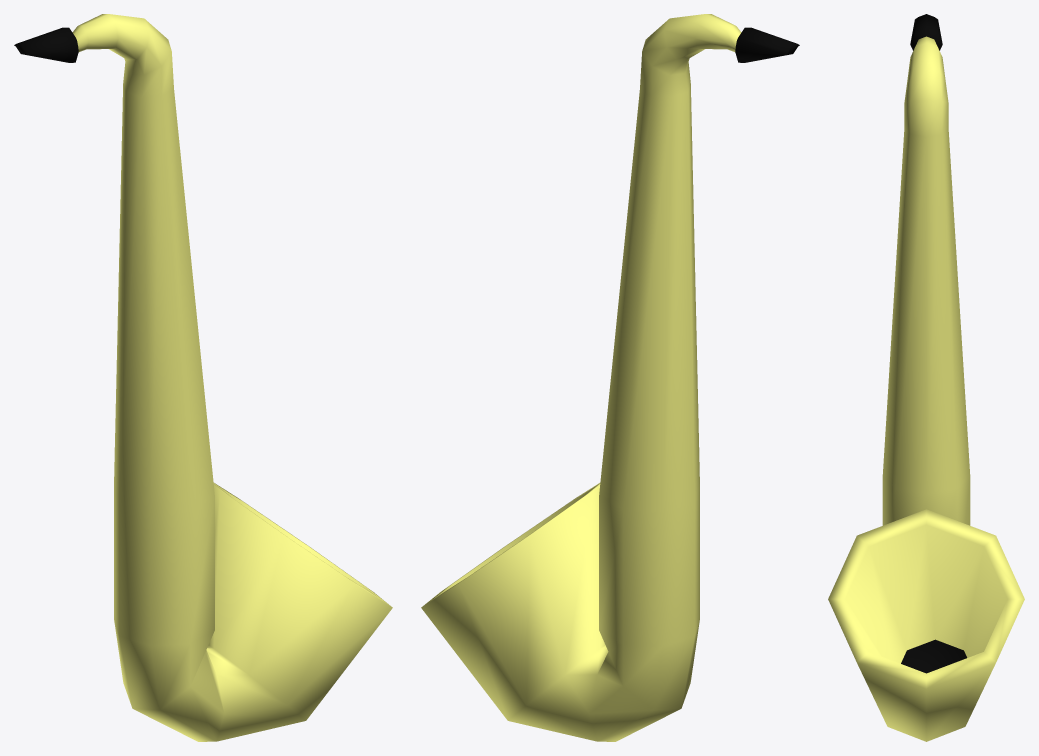
The model's file is saxophone.fbx.
3 views of the same model, side by side, from view 1: azimuth 30°, elevation 25°; view 2: azimuth 150°, elevation 25°; view 3: azimuth 270°, elevation 25° (orthographic). The views are drawn at different scales.
Visible parts, largest first — view 1: Circle; view 2: Circle; view 3: Circle.
Part boxes in pixels (bbox=[...]): Circle: bbox=[14, 14, 392, 741]; Circle: bbox=[421, 14, 799, 741]; Circle: bbox=[828, 14, 1024, 741].
Size of the model in its own units: 245 by 497 by 141.
